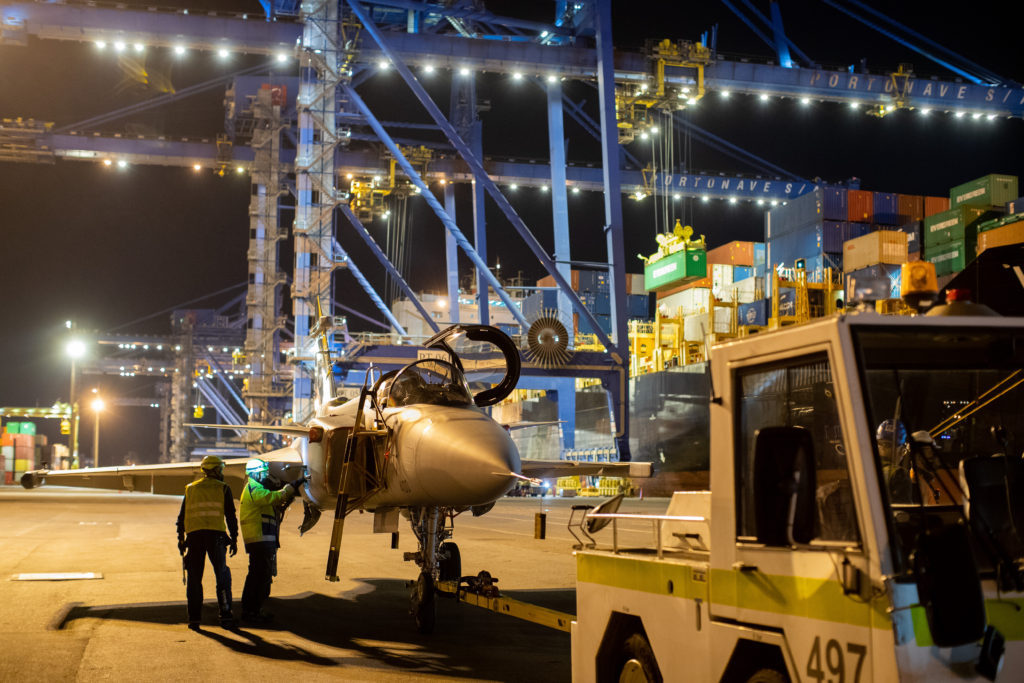JAS39: (19, 293, 655, 633)
